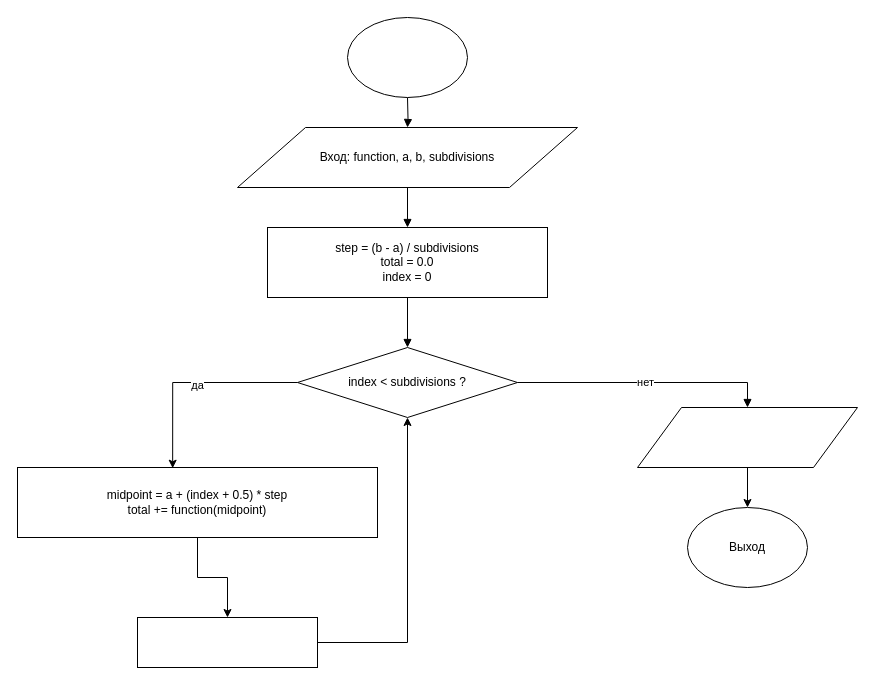
The diagram is 875 pixels wide and 685 high, and some of its shapes have lost their labels. Here are the shapes that lost their labels. From the top down, the centre of each, then its label:
At point (407, 57): "Начало".
At point (747, 437): "Вернуть step * total".
At point (227, 642): "index += 1".
